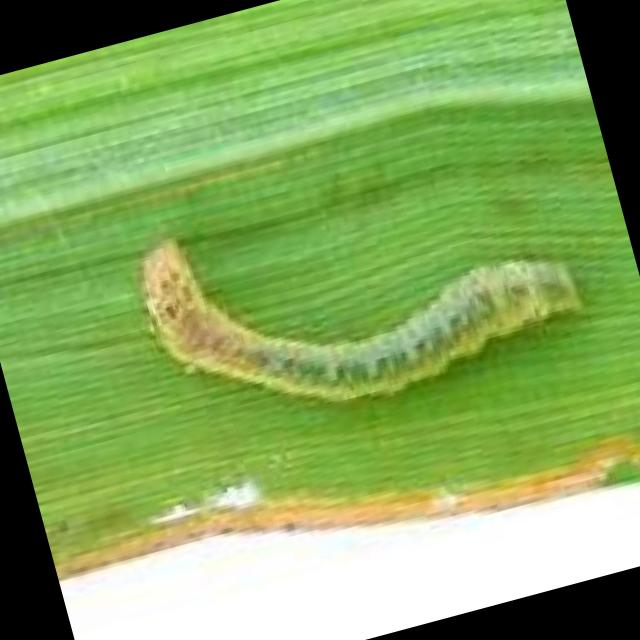leaf-folder: (104, 121, 607, 466)
